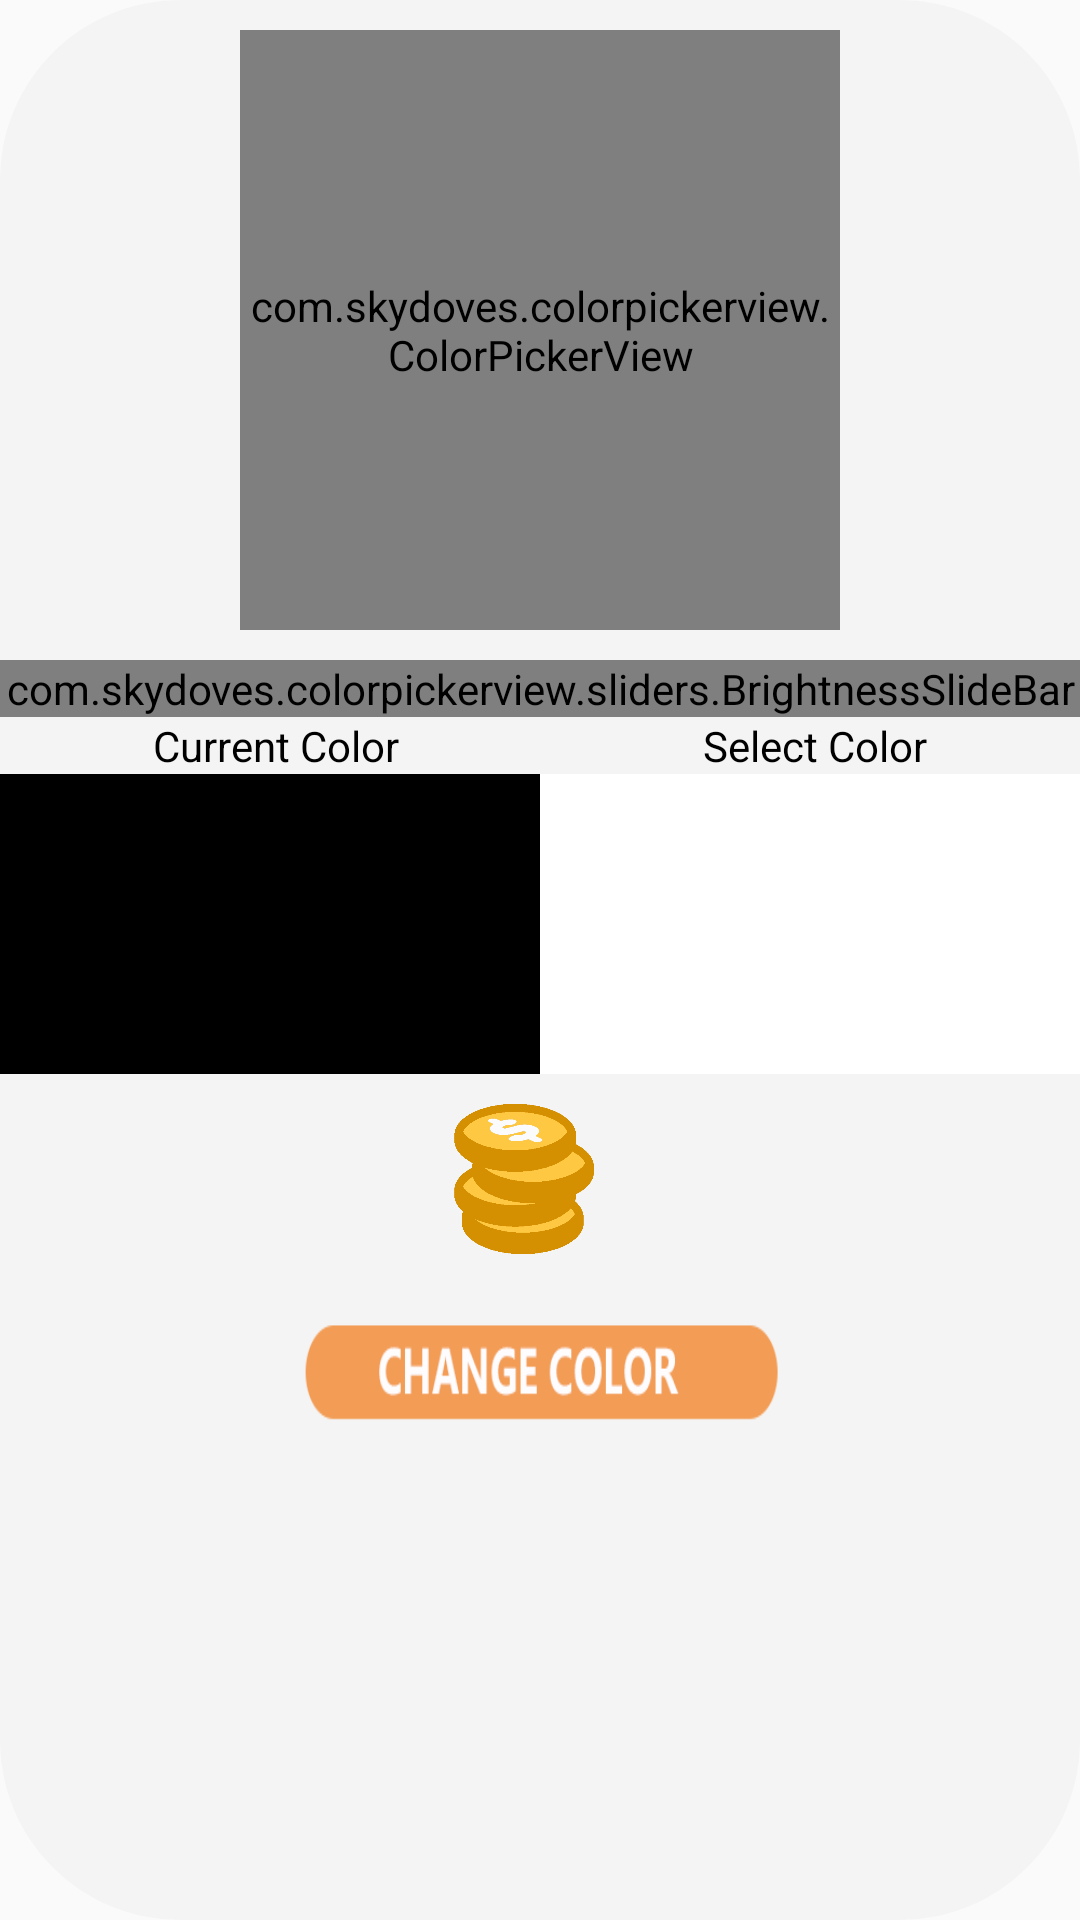

Where icons sit on this 1080*1920 app screen, as bbox=(x1, y1, x2, y2):
coin: bbox=(454, 1104, 594, 1254)
